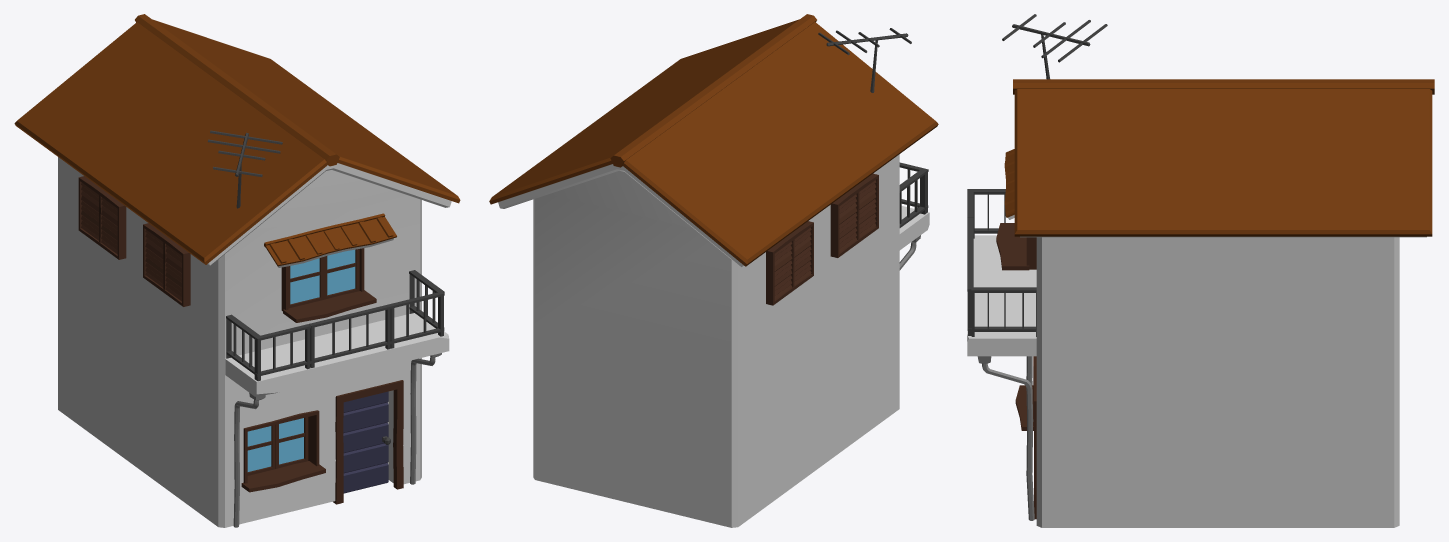
Rendered from SM_house_02.fbx.
The picture shows the model from 3 angles, left to right: view 1: azimuth 30°, elevation 25°; view 2: azimuth 150°, elevation 25°; view 3: azimuth 270°, elevation 25°; orthographic projection. The views are drawn at different scales.
Parts seen in each view (by area): view 1: Object32369; view 2: Object32369; view 3: Object32369.
Boxes of the visible parts, left/top/right/bottom form: Object32369: left=14, top=14, right=460, bottom=527; Object32369: left=489, top=14, right=938, bottom=527; Object32369: left=967, top=14, right=1434, bottom=527.
Bounding box in the file's own units: 223 × 309 × 320.
